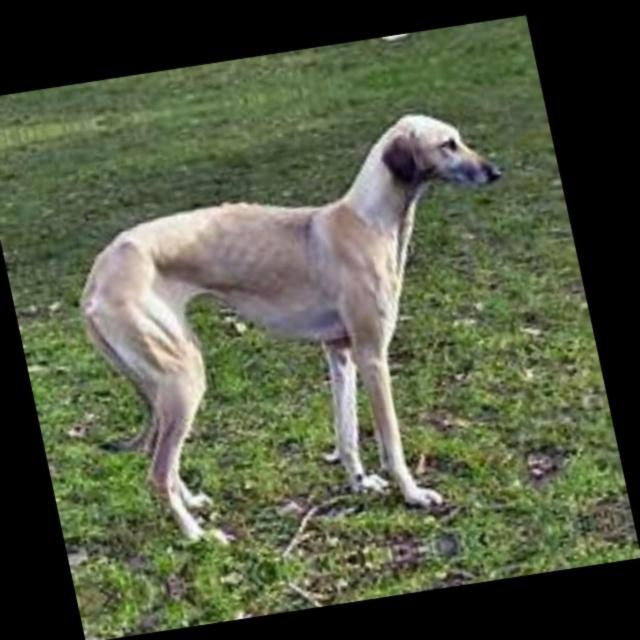dog: (34, 106, 580, 594), (124, 524, 588, 636)
